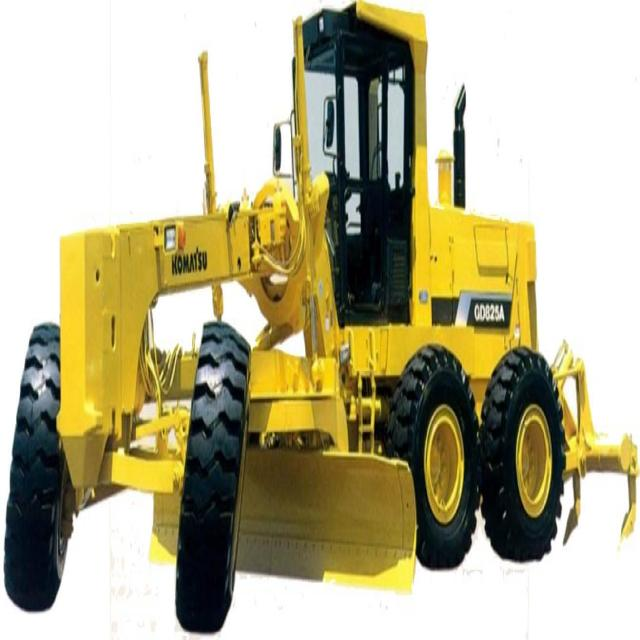Grader: (3, 1, 623, 639)
